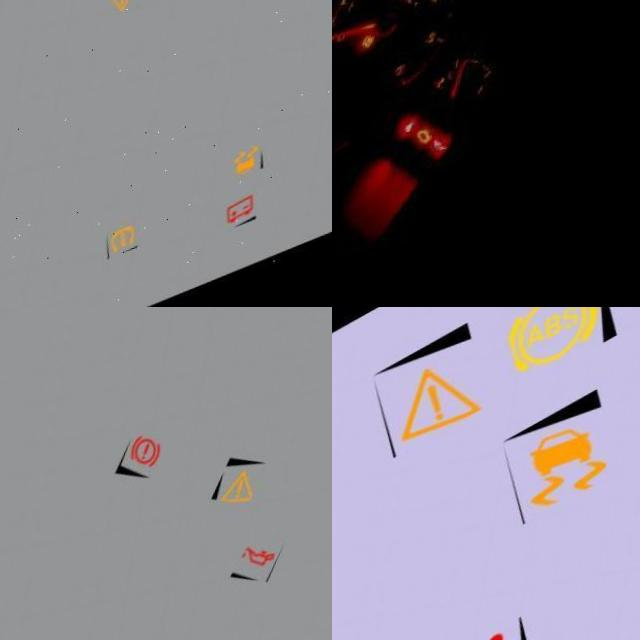Engine cooling system: (448, 75, 469, 98)
